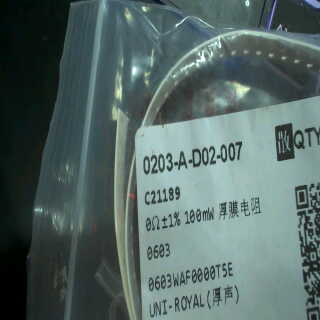0R: (141, 204, 216, 261)
